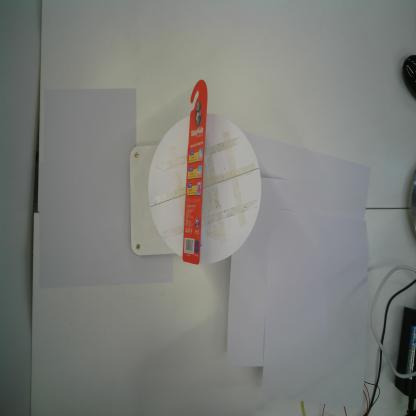Personal Hygiene: (182, 79, 208, 265)
